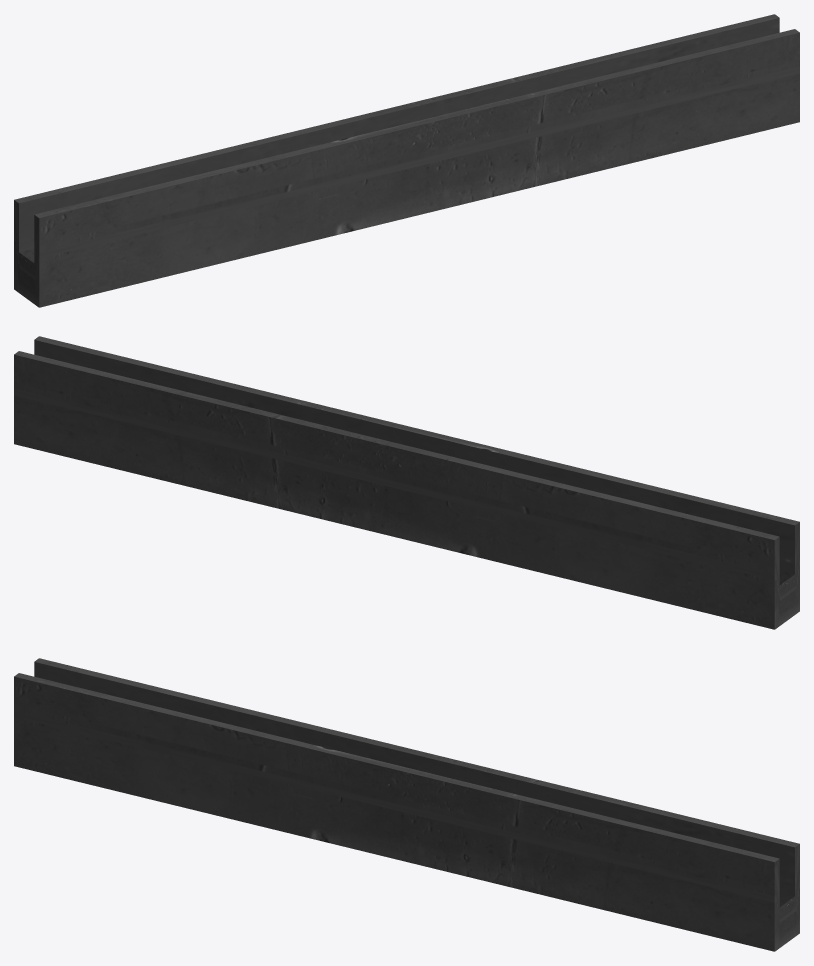
File: rielDeParedes.fbx
The picture shows the model from 3 angles, top to bottom: view 1: azimuth 30°, elevation 25°; view 2: azimuth 150°, elevation 25°; view 3: azimuth 330°, elevation 25°; orthographic projection.
Parts seen in each view (by area): view 1: Cube.070; view 2: Cube.070; view 3: Cube.070.
Boxes of the visible parts, <box> form: Cube.070: <box>14,14,799,307</box>; Cube.070: <box>14,336,799,629</box>; Cube.070: <box>14,658,799,951</box>.
Bounding box in the file's own units: 200 × 22.5 × 11.46.
